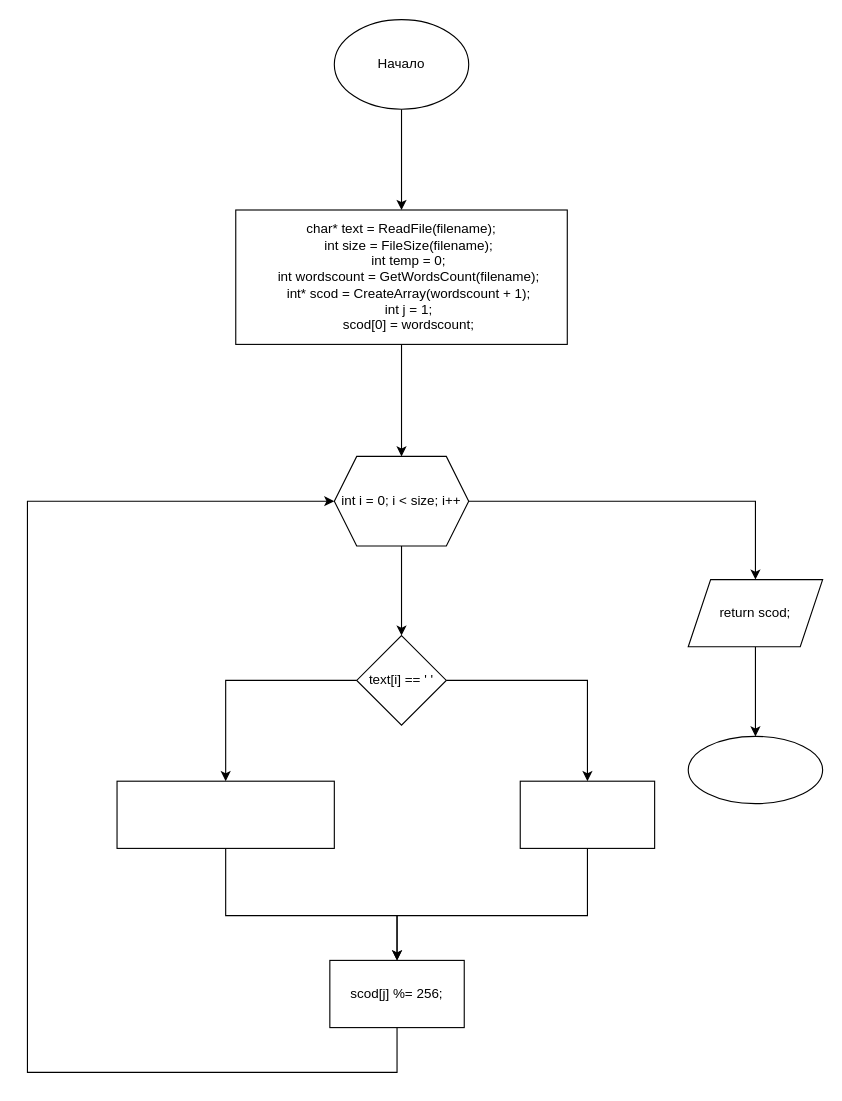
This 842x1101 diagram has some shape labels left out. The shapes that lost their labels are listed below. From the top down, each one's box as (x1, y1, x2, y2) in pixels, then its label:
(687, 735, 823, 804): Конец
(116, 780, 334, 848): temp = (int)text[i]; if (temp < 0) temp += 256; scod[j] += temp;
(519, 780, 655, 848): scod[j] %= 256; j++;
